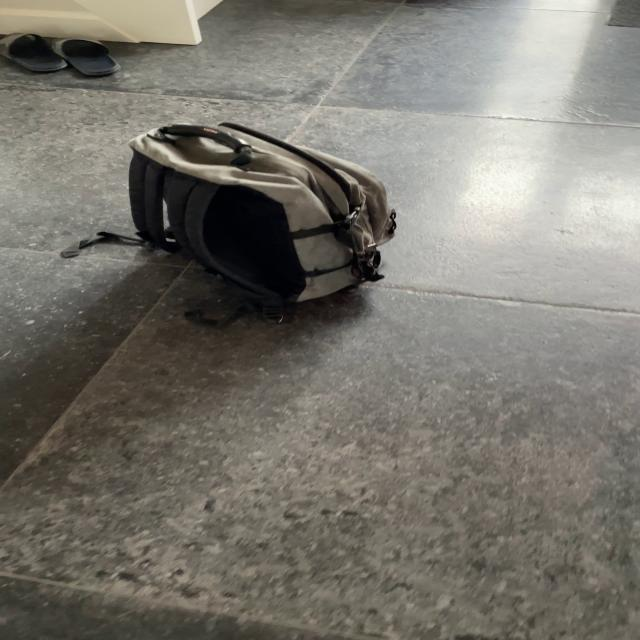backpack: (111, 117, 409, 322)
